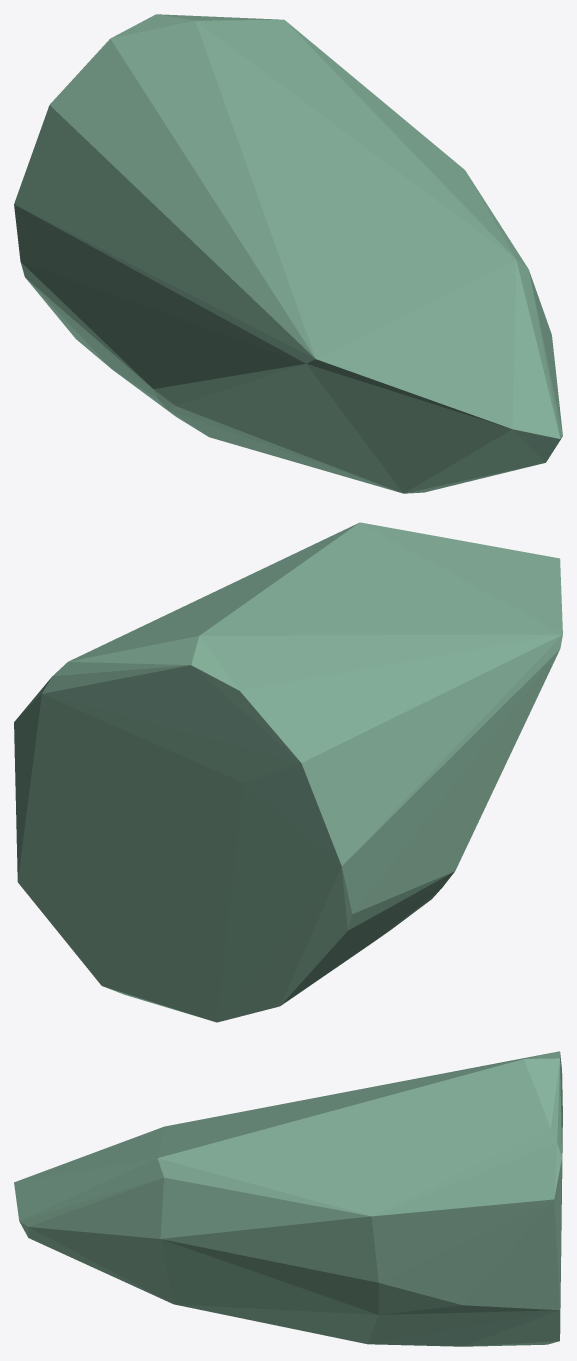
File: paint_container_bottle_green_a03.glb
3 views of the same model, one above another, from view 1: azimuth 30°, elevation 25°; view 2: azimuth 150°, elevation 25°; view 3: azimuth 270°, elevation 25° (orthographic). The views are drawn at different scales.
Visible parts, largest first — view 1: geometry_0; view 2: geometry_0; view 3: geometry_0.
Boxes of the visible parts, x1,y1,x2,y2 form: geometry_0: (14, 14, 562, 493); geometry_0: (14, 522, 562, 1022); geometry_0: (14, 1051, 562, 1346).
Size of the model in its own units: 0.2586 by 0.2548 by 0.479.
